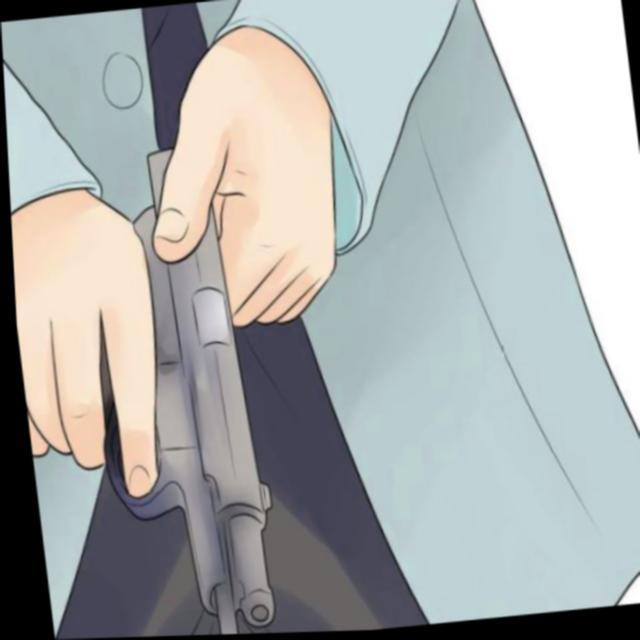weapon: (6, 141, 263, 640)
